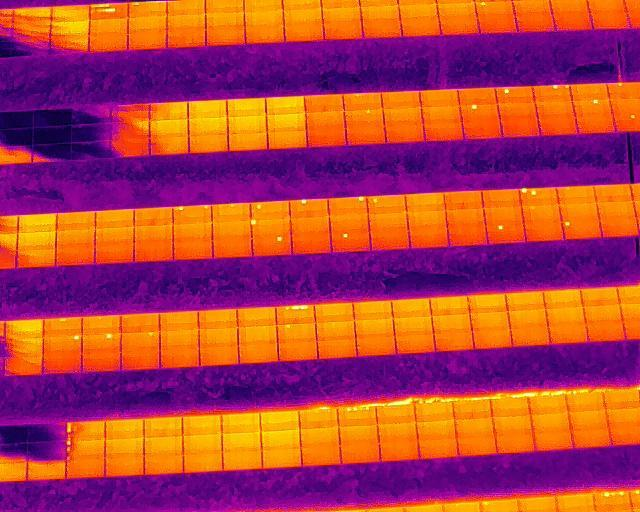Cell: (331, 231, 371, 251), (252, 235, 292, 255), (487, 223, 525, 243), (563, 221, 602, 240), (327, 197, 367, 215), (250, 201, 290, 219), (43, 317, 82, 335), (212, 203, 251, 221), (276, 324, 316, 341), (121, 332, 160, 349), (367, 195, 406, 212), (290, 199, 329, 216), (345, 110, 384, 126), (461, 105, 500, 121), (43, 336, 82, 352), (82, 333, 121, 349), (573, 99, 611, 115), (496, 86, 533, 102), (250, 220, 291, 234), (475, 1, 516, 15), (128, 2, 167, 16)
Cell-Multi: (593, 491, 632, 511), (173, 205, 212, 224), (66, 422, 105, 440), (338, 407, 377, 425), (520, 188, 559, 205), (66, 440, 105, 457), (533, 85, 572, 102), (90, 3, 128, 19)
No-Anomaly: (586, 320, 626, 342), (95, 242, 134, 264), (173, 238, 212, 260), (43, 352, 82, 374), (370, 229, 410, 250), (160, 348, 200, 369), (134, 239, 172, 261), (390, 299, 431, 319), (5, 319, 44, 340), (121, 349, 160, 370), (82, 351, 121, 372), (439, 15, 479, 35), (353, 301, 393, 321), (472, 329, 512, 349), (548, 323, 588, 343), (212, 237, 252, 257), (104, 456, 144, 476), (340, 442, 380, 462), (238, 344, 278, 364), (301, 446, 341, 466), (592, 184, 634, 203), (292, 234, 331, 254), (434, 331, 473, 351), (89, 31, 128, 51), (95, 209, 134, 229), (457, 435, 496, 455), (599, 218, 640, 237), (261, 449, 302, 468), (417, 438, 458, 457), (542, 289, 582, 308), (236, 308, 276, 327), (317, 339, 357, 358), (448, 226, 488, 245), (408, 227, 448, 246), (429, 296, 469, 315), (467, 294, 507, 313), (505, 291, 545, 310), (26, 460, 66, 479), (189, 134, 229, 153), (494, 433, 534, 452), (183, 452, 223, 471), (300, 428, 340, 447), (392, 317, 434, 335), (238, 326, 277, 345), (279, 340, 318, 359), (198, 310, 237, 329), (56, 246, 95, 265), (227, 98, 266, 117), (245, 25, 284, 44), (149, 101, 188, 120), (199, 328, 238, 347), (206, 26, 245, 45), (200, 346, 239, 365), (380, 441, 419, 460), (66, 458, 105, 477), (56, 211, 95, 230), (591, 11, 630, 30), (534, 431, 573, 450), (150, 136, 189, 155), (167, 29, 206, 48), (18, 213, 57, 232), (478, 14, 517, 33), (399, 18, 440, 36), (395, 334, 436, 352), (515, 13, 556, 31), (555, 185, 596, 203), (558, 203, 599, 221), (577, 114, 615, 133), (539, 115, 577, 134), (501, 118, 539, 137), (510, 327, 550, 345), (362, 20, 402, 38), (265, 96, 305, 114), (355, 319, 395, 337), (356, 337, 396, 355), (306, 128, 346, 146), (552, 12, 592, 30), (228, 133, 268, 151), (261, 431, 301, 449), (405, 193, 445, 211), (95, 227, 135, 245), (267, 131, 307, 149), (222, 451, 262, 469), (492, 415, 532, 433), (104, 420, 144, 438), (260, 412, 300, 430), (345, 126, 385, 144), (182, 417, 222, 435), (144, 455, 184, 473), (324, 20, 363, 38), (315, 304, 354, 322), (160, 330, 199, 348), (56, 228, 95, 246), (580, 288, 619, 306), (159, 312, 198, 330), (188, 100, 227, 118), (423, 123, 462, 141), (291, 217, 330, 235), (444, 191, 483, 209), (569, 411, 608, 429), (134, 207, 173, 225), (531, 413, 570, 431), (299, 410, 338, 428), (522, 205, 561, 223), (222, 414, 261, 432), (525, 223, 564, 241), (133, 224, 172, 242), (128, 31, 167, 49), (582, 305, 623, 322), (315, 322, 356, 339), (415, 421, 456, 438), (328, 214, 369, 231), (17, 249, 55, 267), (573, 428, 611, 446), (529, 397, 567, 415), (145, 419, 183, 437), (447, 209, 485, 227), (470, 312, 510, 329), (508, 310, 548, 327), (414, 404, 454, 421), (407, 211, 447, 228), (222, 433, 262, 450), (376, 406, 416, 423), (339, 426, 379, 443), (378, 423, 418, 440), (267, 114, 306, 131), (121, 314, 160, 331), (228, 116, 267, 133), (285, 24, 324, 41), (547, 307, 586, 324), (381, 91, 420, 108), (306, 112, 345, 129), (82, 316, 121, 333), (304, 95, 343, 112), (385, 125, 424, 142), (556, 494, 595, 511), (368, 212, 407, 229), (456, 419, 495, 436), (491, 399, 530, 416), (453, 402, 492, 419), (144, 437, 183, 454), (462, 121, 501, 138), (431, 315, 472, 331), (596, 201, 637, 217), (18, 232, 56, 249), (421, 90, 459, 107), (482, 189, 520, 206), (566, 394, 604, 411), (212, 221, 250, 238), (483, 206, 523, 222), (322, 6, 362, 22), (361, 5, 401, 21), (182, 435, 222, 451), (384, 109, 423, 125), (343, 93, 382, 109), (189, 118, 228, 134), (105, 440, 144, 456), (173, 224, 212, 240), (51, 5, 90, 21), (284, 8, 323, 24), (570, 83, 609, 99), (150, 120, 189, 136), (422, 107, 460, 123), (458, 88, 496, 104), (436, 3, 478, 17), (89, 18, 128, 33), (206, 12, 245, 27), (167, 0, 206, 15), (167, 14, 206, 29), (244, 10, 283, 25), (128, 16, 167, 31), (498, 103, 536, 118), (536, 101, 574, 116), (400, 4, 437, 19), (50, 21, 89, 35)
Shadowing: (69, 122, 112, 144), (70, 141, 113, 161), (31, 109, 71, 130), (3, 355, 43, 376), (70, 106, 111, 126), (30, 126, 71, 146), (27, 423, 66, 442), (31, 144, 71, 162), (26, 442, 66, 460), (110, 121, 150, 139), (110, 139, 150, 157), (5, 337, 44, 355), (111, 103, 150, 121), (50, 35, 89, 52), (13, 7, 52, 22), (12, 22, 51, 36)
Unclassified: (276, 306, 316, 324)
